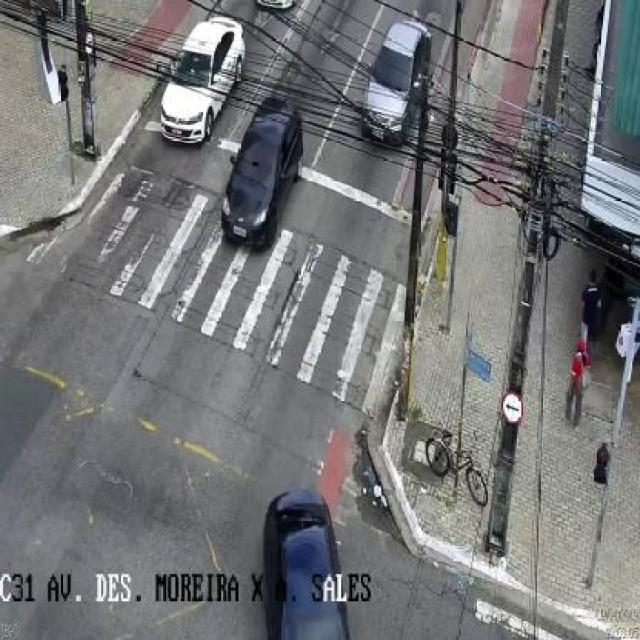Car: (248, 486, 367, 640), (128, 5, 238, 154), (198, 100, 302, 257), (349, 12, 435, 135)
